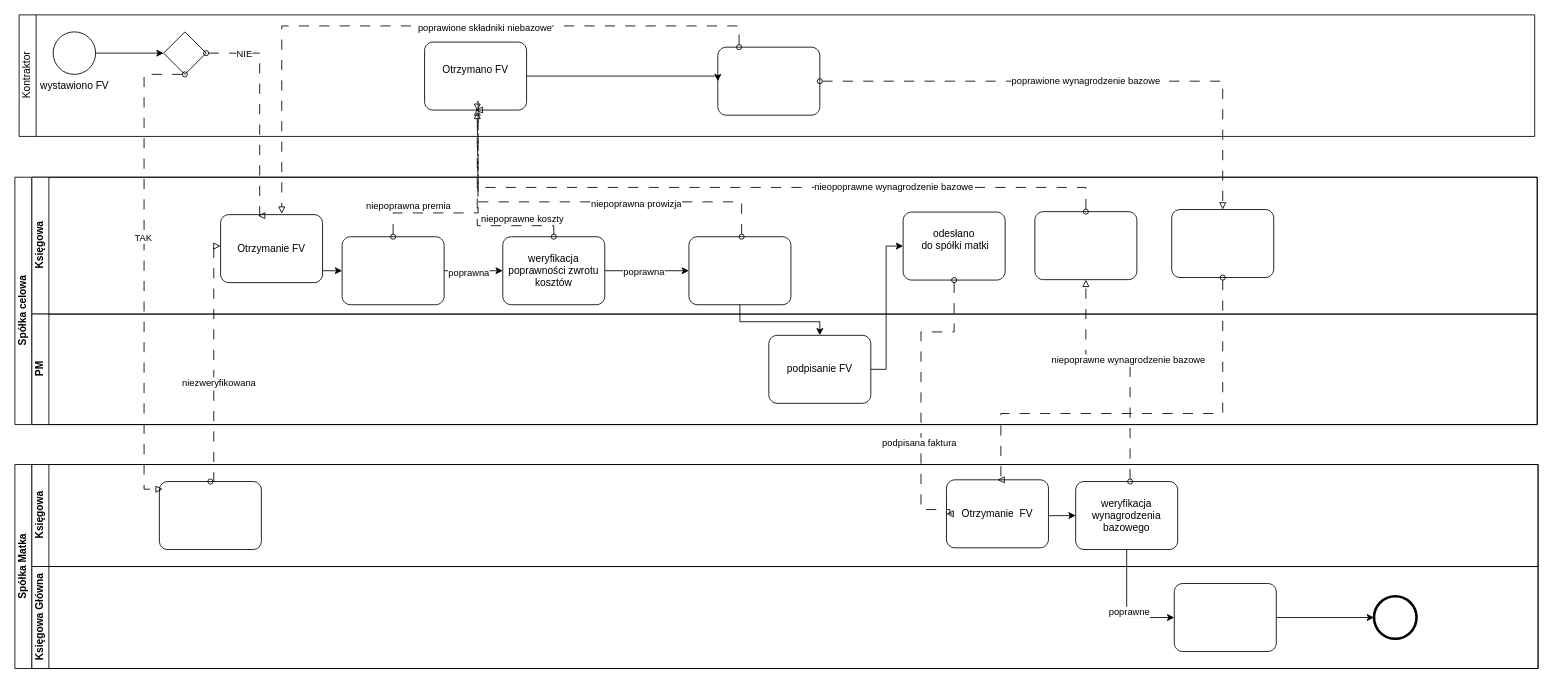
The diagram is 1553 pixels wide and 683 high, and some of its shapes have lost their labels. The shapes that lost their labels are listed below. From the top down, each one's centre as x and y in pixels, then its label:
pixel 184 52: czy wysłane do matki
pixel 768 80: poprawianie FV
pixel 1085 245: przesłanie faktury do kontraktora
pixel 1222 243: przesłanie faktury do spółki matki
pixel 392 270: weryfikacja poprawności premii
pixel 739 270: weryfikacja poprawności prowizji sprzedaży
pixel 210 515: Przesłanie do spółki córki
pixel 1224 617: skierowanie do wypłaty
